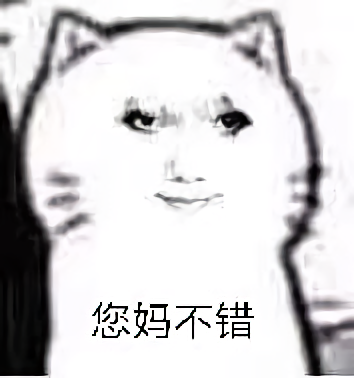dragon: (115, 88, 256, 215)
